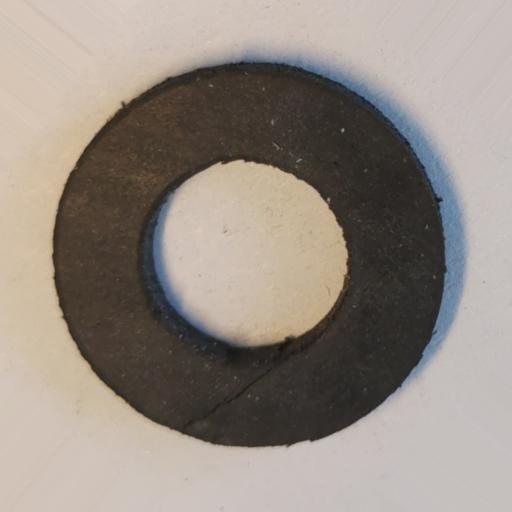defect: (180, 357, 287, 432)
